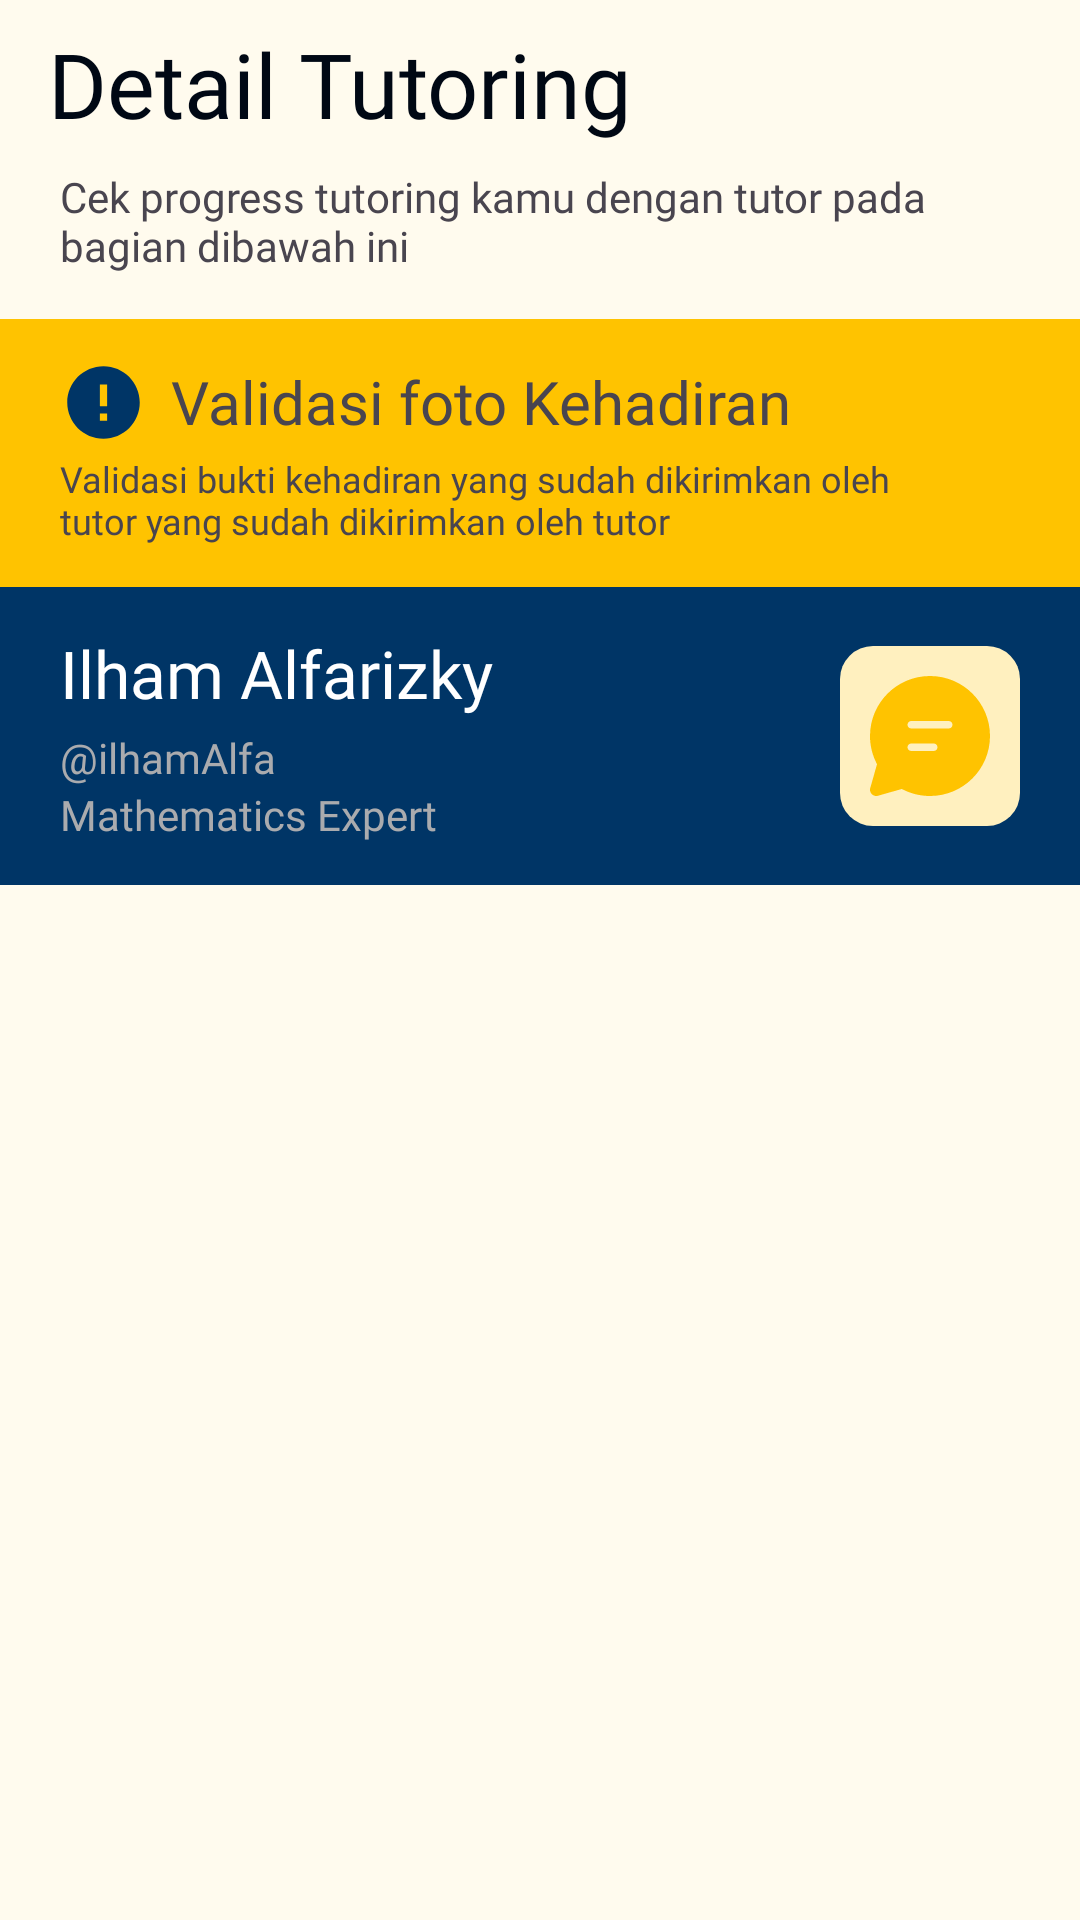

Point at icon controls on the screen. Image size 1080×1920, points as point (x, y).
chat button: point (930, 736)
ic error: point (103, 402)
